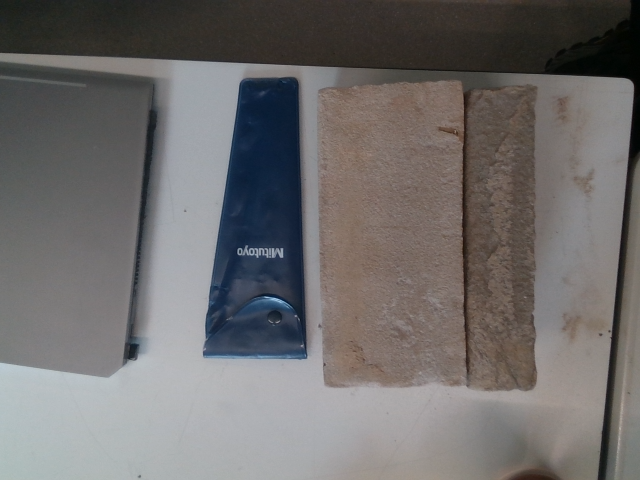brick: (315, 83, 471, 382)
